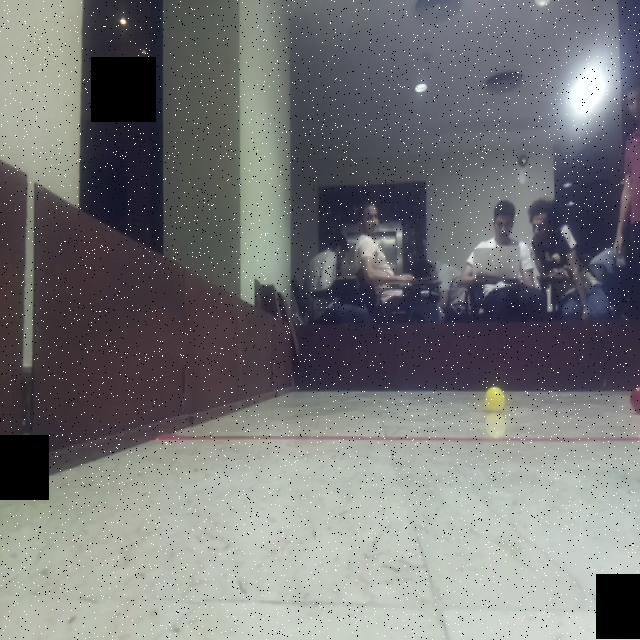ball: (480, 384, 506, 414), (626, 381, 639, 418)
